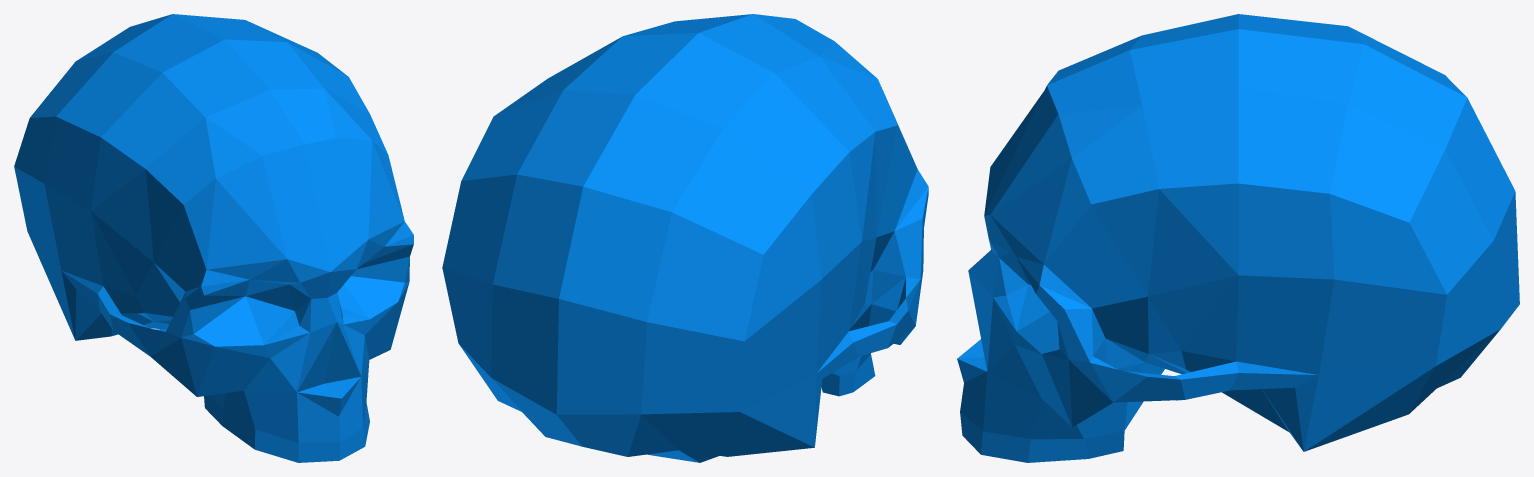
The model's file is scull lp.fbx.
3 views of the same model, side by side, from view 1: azimuth 30°, elevation 25°; view 2: azimuth 150°, elevation 25°; view 3: azimuth 270°, elevation 25° (orthographic). The views are drawn at different scales.
Visible parts, largest first — view 1: Cube; view 2: Cube; view 3: Cube.
Part boxes in pixels (bbox=[...]): Cube: bbox=[14, 14, 413, 462]; Cube: bbox=[442, 14, 928, 462]; Cube: bbox=[957, 14, 1519, 462].
Bounding box in the file's own units: 136 × 156 × 195.
